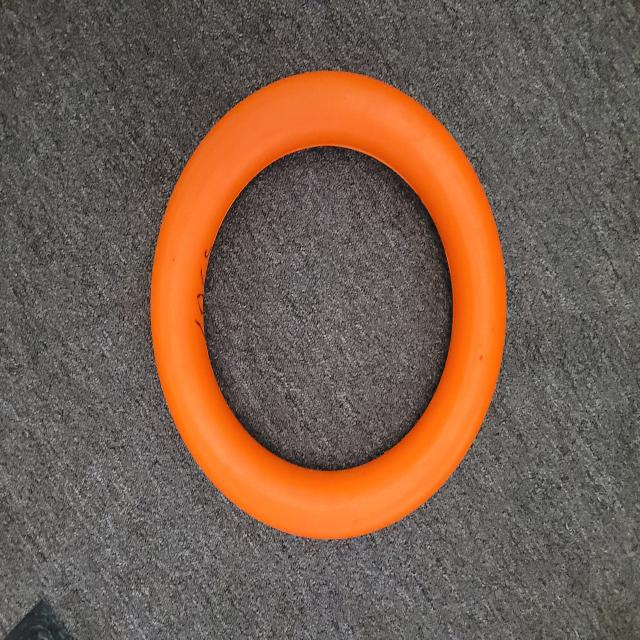note: (135, 65, 514, 560)
